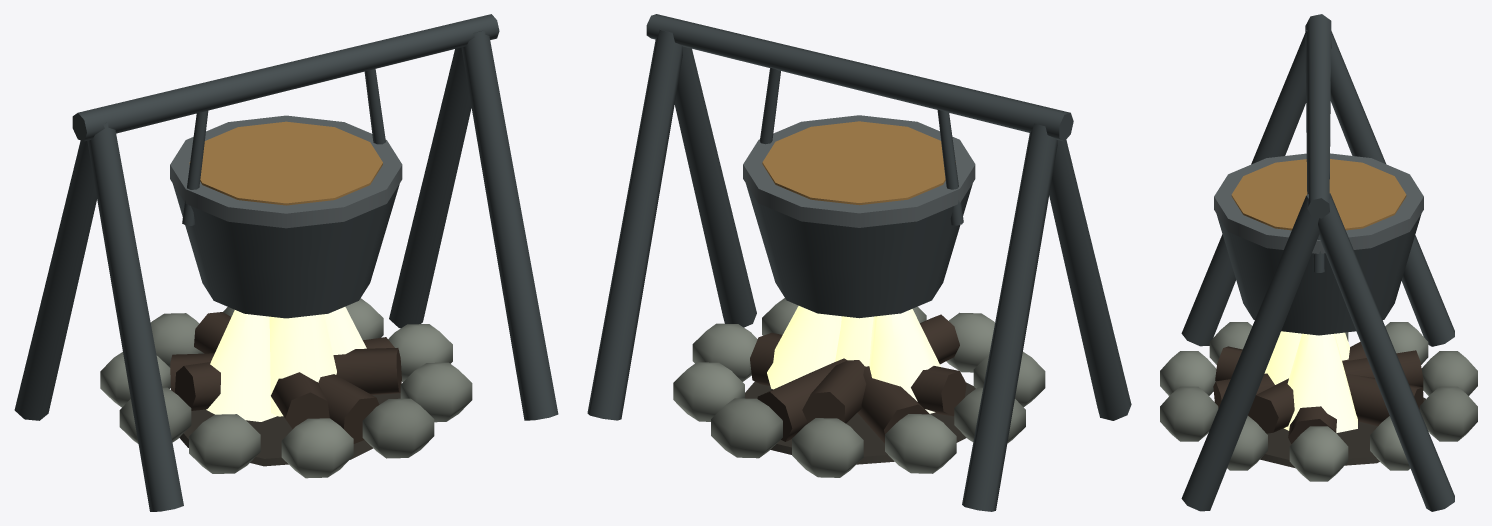
Rendered from Stations_Cooking.glb.
The picture shows the model from 3 angles, left to right: view 1: azimuth 30°, elevation 25°; view 2: azimuth 150°, elevation 25°; view 3: azimuth 270°, elevation 25°; orthographic projection. The views are drawn at different scales.
Parts seen in each view (by area): view 1: _MeshInstance3D_4284, _MeshInstance3D_4282, _MeshInstance3D_4280, _MeshInstance3D_4286, _MeshInstance3D_4283, _MeshInstance3D_4279, _MeshInstance3D_4281, _MeshInstance3D_4285, Flame0, Flame1, _MeshInstance3D_4263, _MeshInstance3D_4264 (+15 smaller); view 2: _MeshInstance3D_4284, _MeshInstance3D_4281, _MeshInstance3D_4279, _MeshInstance3D_4286, _MeshInstance3D_4283, _MeshInstance3D_4280, _MeshInstance3D_4282, _MeshInstance3D_4285, Flame0, Flame2, _MeshInstance3D_4273, _MeshInstance3D_4268 (+15 smaller); view 3: _MeshInstance3D_4281, _MeshInstance3D_4282, _MeshInstance3D_4284, _MeshInstance3D_4286, _MeshInstance3D_4279, _MeshInstance3D_4280, _MeshInstance3D_4285, _MeshInstance3D_4283, Flame2, _MeshInstance3D_4261, _MeshInstance3D_4269, _MeshInstance3D_4263 (+12 smaller).
Boxes of the visible parts, bbox=[...] form: _MeshInstance3D_4284: bbox=[172, 183, 399, 318]; _MeshInstance3D_4282: bbox=[461, 30, 558, 420]; _MeshInstance3D_4280: bbox=[87, 122, 183, 511]; _MeshInstance3D_4286: bbox=[189, 121, 382, 205]; _MeshInstance3D_4283: bbox=[72, 14, 499, 141]; _MeshInstance3D_4279: bbox=[14, 140, 96, 420]; _MeshInstance3D_4281: bbox=[389, 47, 471, 328]; _MeshInstance3D_4285: bbox=[170, 115, 402, 228]; Flame0: bbox=[206, 310, 277, 421]; Flame1: bbox=[269, 314, 336, 416]; _MeshInstance3D_4263: bbox=[362, 398, 434, 458]; _MeshInstance3D_4264: bbox=[281, 418, 353, 478]; _MeshInstance3D_4284: bbox=[746, 183, 972, 318]; _MeshInstance3D_4281: bbox=[587, 30, 682, 420]; _MeshInstance3D_4279: bbox=[962, 123, 1057, 511]; _MeshInstance3D_4286: bbox=[762, 121, 945, 205]; _MeshInstance3D_4283: bbox=[646, 14, 1073, 141]; _MeshInstance3D_4280: bbox=[1049, 140, 1131, 420]; _MeshInstance3D_4282: bbox=[674, 46, 756, 327]; _MeshInstance3D_4285: bbox=[743, 115, 975, 227]; Flame0: bbox=[869, 309, 940, 413]; Flame2: bbox=[767, 306, 841, 389]; _MeshInstance3D_4273: bbox=[757, 314, 959, 441]; _MeshInstance3D_4268: bbox=[792, 418, 863, 477]; _MeshInstance3D_4281: bbox=[1318, 193, 1454, 511]; _MeshInstance3D_4282: bbox=[1181, 194, 1319, 511]; _MeshInstance3D_4284: bbox=[1216, 214, 1421, 335]; _MeshInstance3D_4286: bbox=[1231, 159, 1406, 230]; _MeshInstance3D_4279: bbox=[1330, 31, 1454, 346]; _MeshInstance3D_4280: bbox=[1181, 30, 1307, 346]; _MeshInstance3D_4285: bbox=[1214, 153, 1423, 253]; _MeshInstance3D_4283: bbox=[1305, 14, 1331, 218]; Flame2: bbox=[1284, 333, 1357, 432]; _MeshInstance3D_4261: bbox=[1289, 426, 1348, 481]; _MeshInstance3D_4269: bbox=[1419, 386, 1477, 441]; _MeshInstance3D_4263: bbox=[1160, 386, 1218, 441].
Size of the model in its own units: 1.48 by 1.21 by 1.09.
